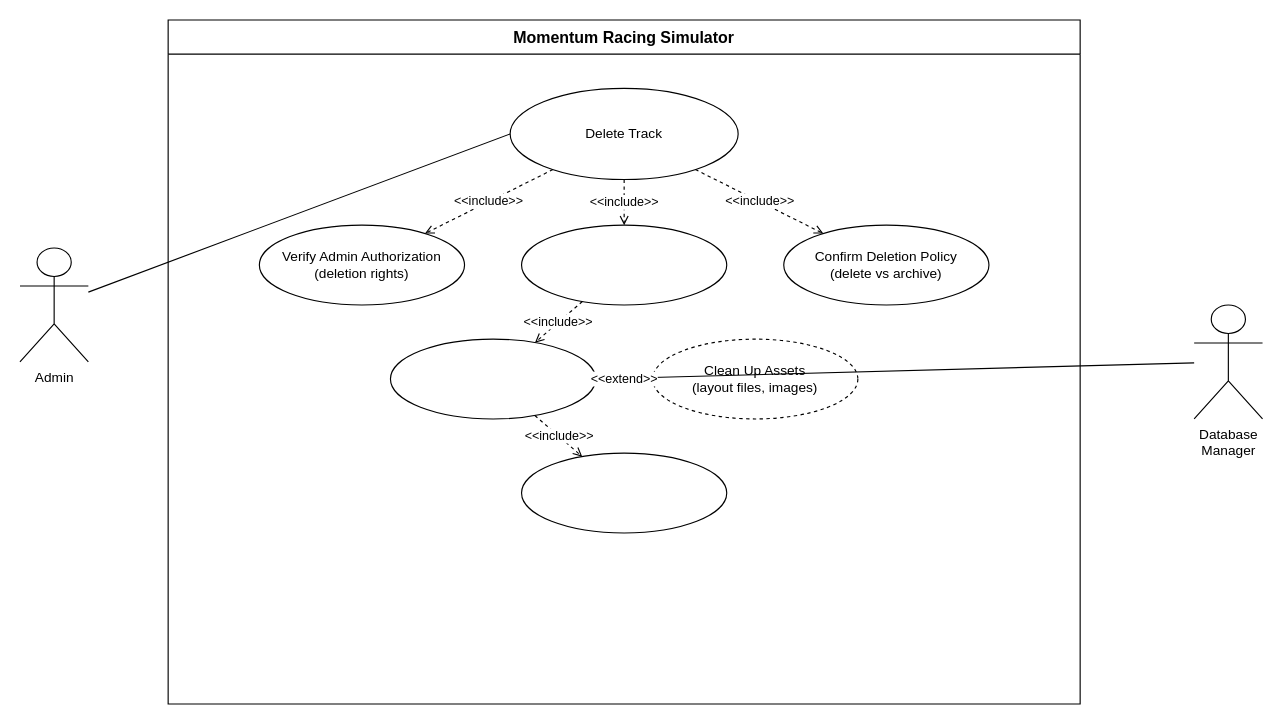
The diagram is 1283 pixels wide and 724 high, and some of its shapes have lost their labels. The shapes that lost their labels are listed below. From the top down, each one's centre as x and y in pixels, then its label:
point (623, 264): Check Scheduled Events (future race dependencies)
point (492, 378): Delete Track Record (or mark archived)
point (623, 492): Return Confirmation (200 OK or archived)
